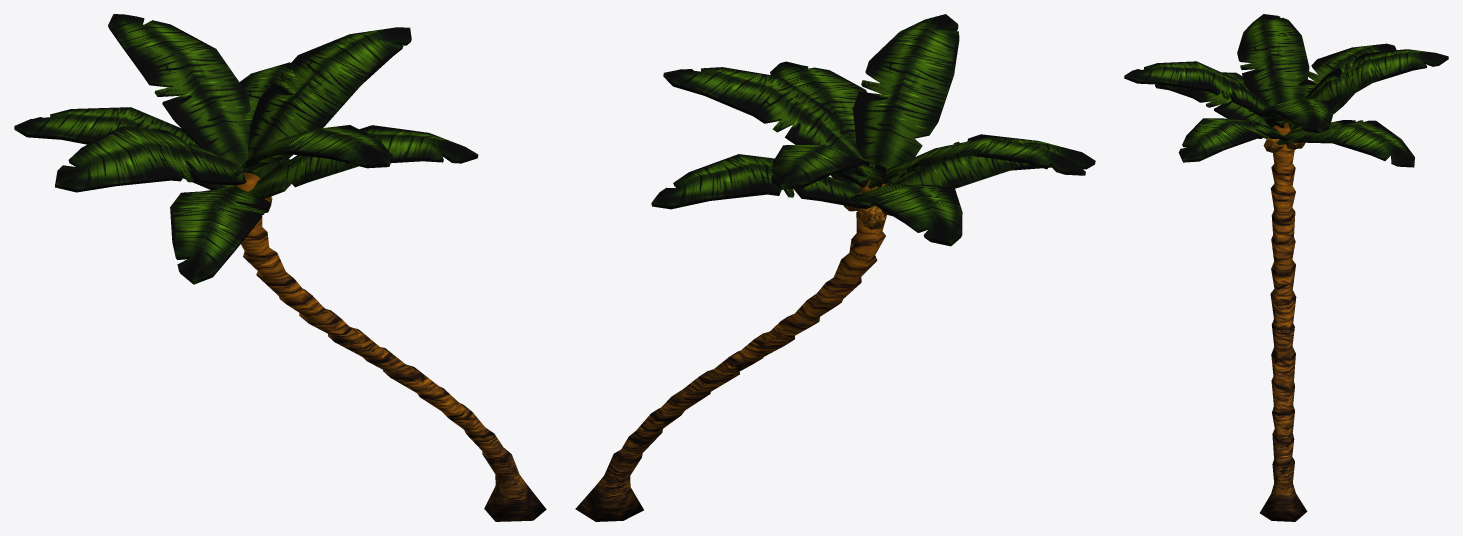
The model's file is Palme_C11.fbx.
The picture shows the model from 3 angles, left to right: view 1: azimuth 30°, elevation 25°; view 2: azimuth 150°, elevation 25°; view 3: azimuth 270°, elevation 25°; orthographic projection. The views are drawn at different scales.
Parts seen in each view (by area): view 1: PalbeSubs.002; view 2: PalbeSubs.002; view 3: PalbeSubs.002.
Part boxes in pixels (x1,y1,x2,y2): PalbeSubs.002: [14, 14, 546, 521]; PalbeSubs.002: [575, 14, 1095, 521]; PalbeSubs.002: [1124, 14, 1448, 521].
Bounding box in the file's own units: 1964 × 1839 × 1513.
Materials: 3 (3 with a texture image).
